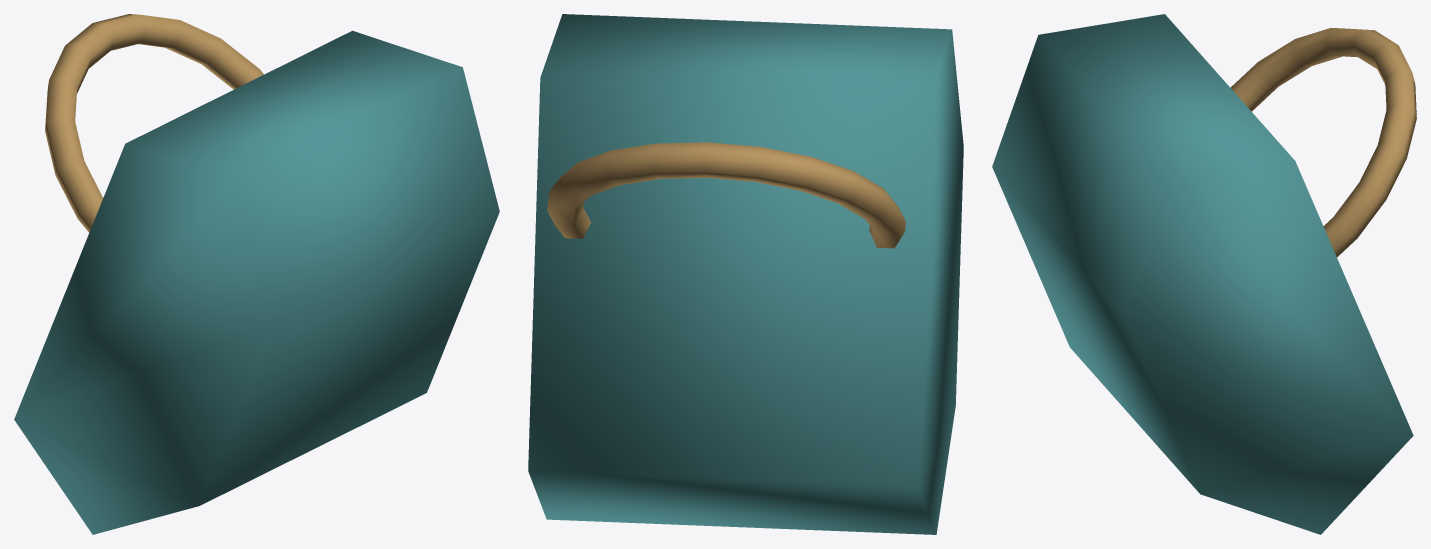
The model's file is shoulder-shell-l.glb.
3 views of the same model, side by side, from view 1: azimuth 30°, elevation 25°; view 2: azimuth 150°, elevation 25°; view 3: azimuth 270°, elevation 25° (orthographic). The views are drawn at different scales.
Visible parts, largest first — view 1: shoulder-shell-l; view 2: shoulder-shell-l; view 3: shoulder-shell-l.
Boxes of the visible parts, x1,y1,x2,y2 form: shoulder-shell-l: [14, 14, 499, 534]; shoulder-shell-l: [528, 14, 963, 534]; shoulder-shell-l: [992, 14, 1416, 534].
Bounding box in the file's own units: 8.89 × 8.84 × 8.4.
